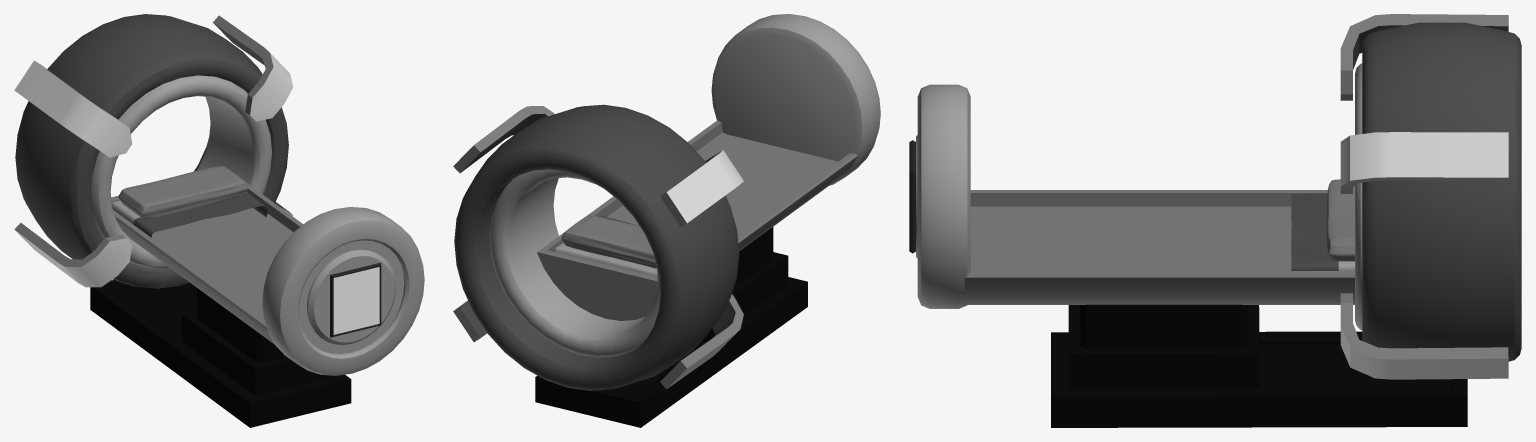
The model's file is Med_Bed.fbx.
3 renders of one model, left to right at view 1: azimuth 30°, elevation 25°; view 2: azimuth 150°, elevation 25°; view 3: azimuth 270°, elevation 25°, orthographic. The views are drawn at different scales.
Visible parts, largest first — view 1: Cube.029, Cylinder.009, Cube.026; view 2: Cube.029, Cylinder.009, Cube.026; view 3: Cube.029, Cylinder.009, Cube.026.
Part boxes in pixels (bbox=[...]): Cube.029: bbox=[14, 14, 293, 288]; Cylinder.009: bbox=[111, 166, 424, 375]; Cube.026: bbox=[90, 280, 351, 427]; Cube.029: bbox=[453, 104, 743, 390]; Cylinder.009: bbox=[537, 14, 880, 320]; Cube.026: bbox=[535, 227, 807, 427]; Cube.029: bbox=[1340, 14, 1521, 379]; Cylinder.009: bbox=[909, 84, 1354, 308]; Cube.026: bbox=[1051, 304, 1467, 427].
Bounding box in the file's own units: 259 × 293 × 454.
